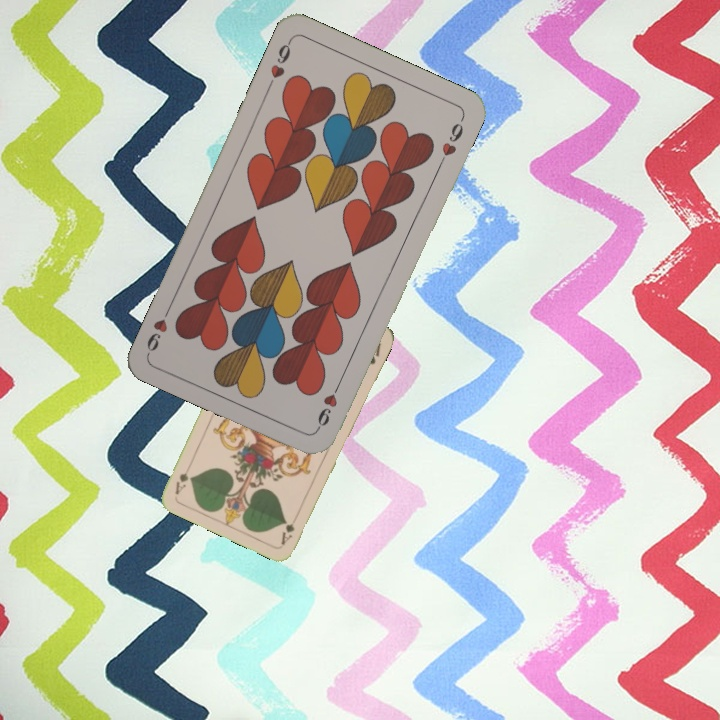GA: (277, 509, 301, 547)
H9: (263, 36, 295, 91), (313, 376, 344, 432)
